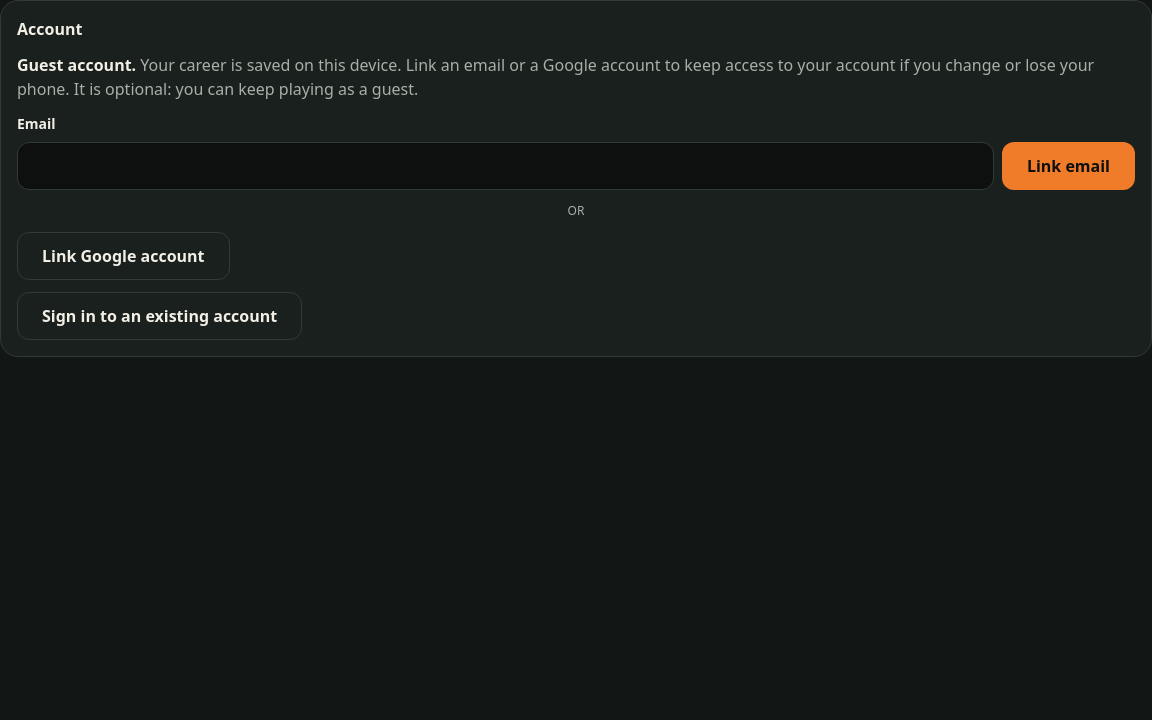
Test: Account card › shows a clear error and keeps the guest options when the email is already used
Type "taken@example.com" into the field labelled "Email".
click(505, 166); type("taken@example.com")  # box [17, 142, 994, 190]
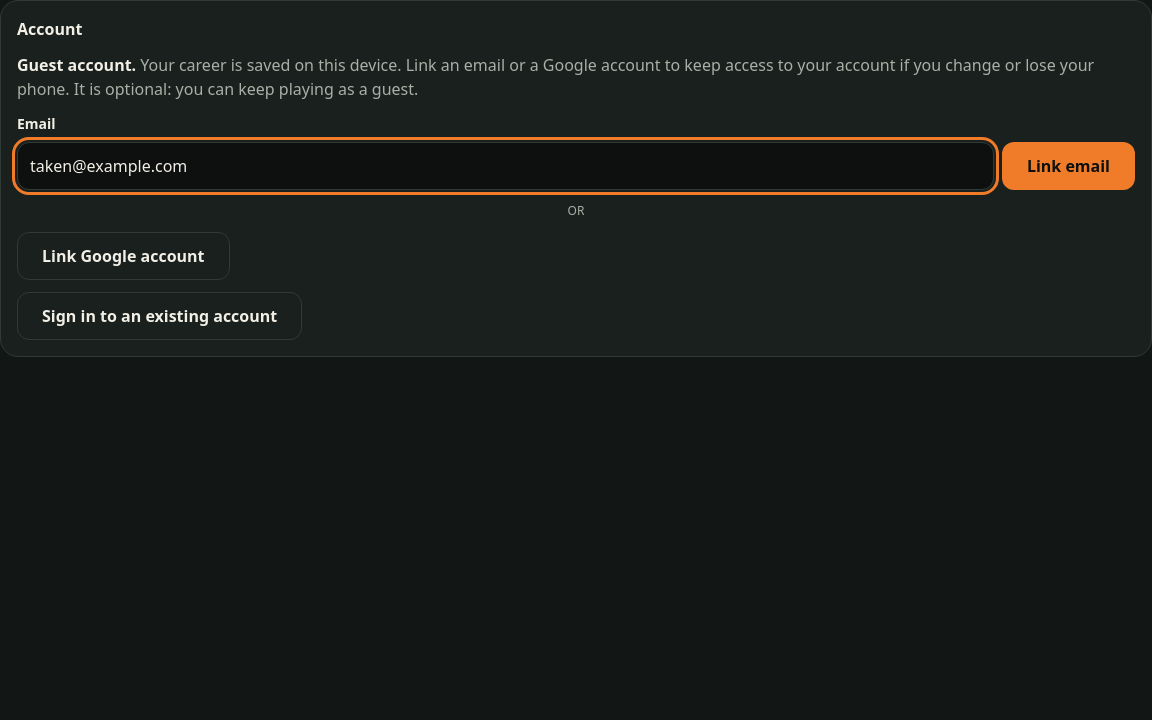
Click the button "Link email".
click(1068, 166)  # box [1002, 142, 1135, 190]
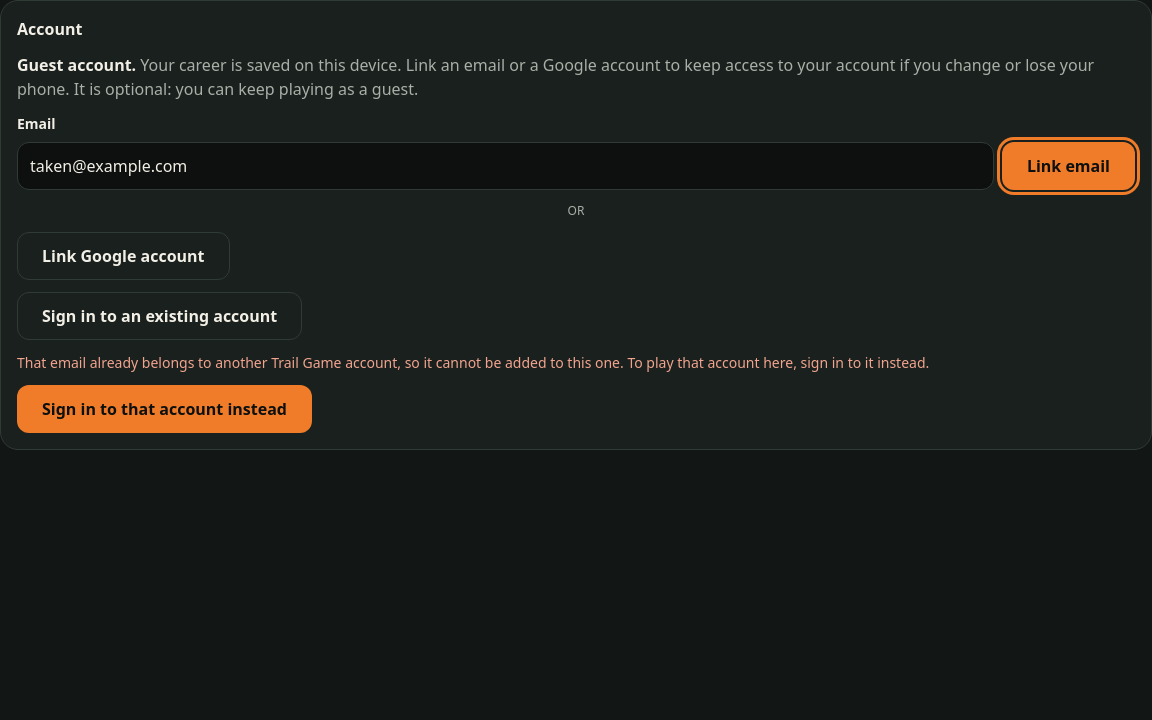
Expected: the text "Guest account." is shown, [17, 54, 136, 76]
Expected: the message shows "already belongs to another Trail Game account", [17, 353, 929, 372]
Offers to sign in to that account instead: opens the sign-in form.
Click the button "Sign in to that account instead".
click(164, 409)  # box [17, 385, 312, 433]
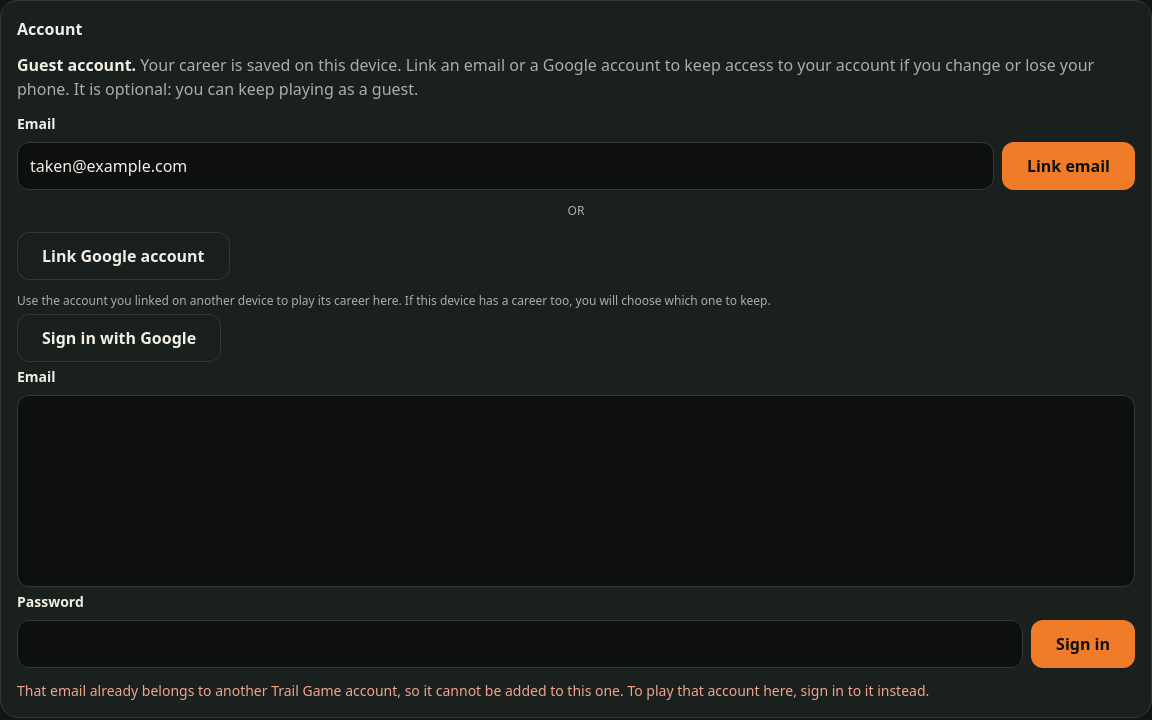
Expected: the element named "Sign in to an existing account" is shown, [17, 292, 1135, 668]
Expected: the password field labelled "Password" is shown, [17, 620, 1023, 668]
